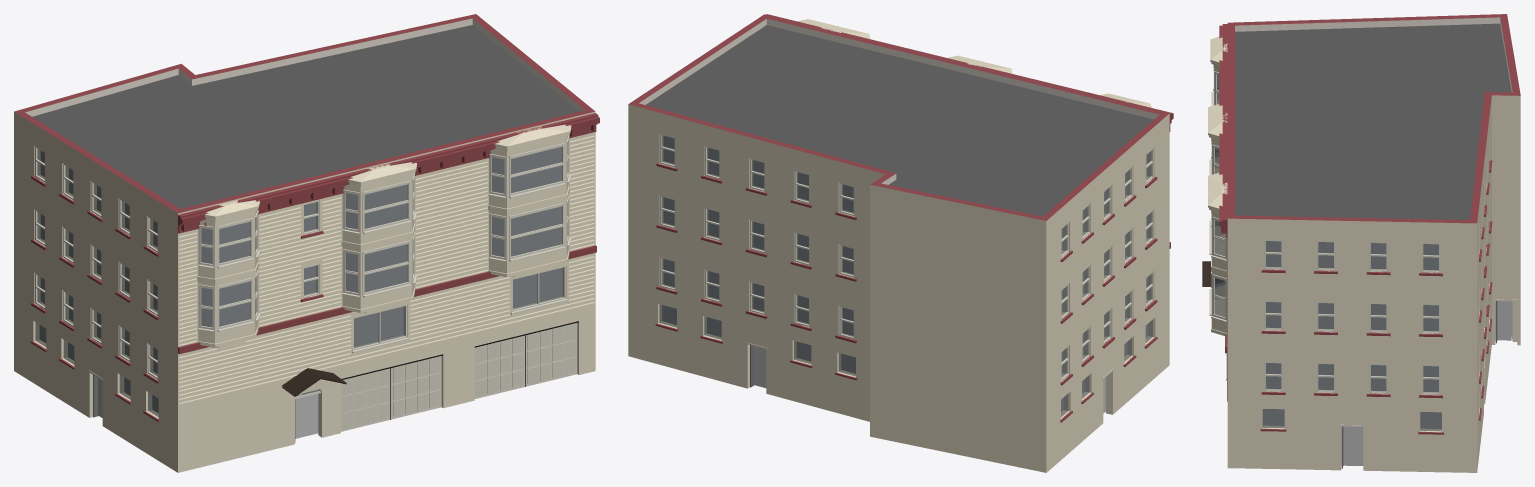
The model's file is exterior.glb.
The picture shows the model from 3 angles, left to right: view 1: azimuth 30°, elevation 25°; view 2: azimuth 150°, elevation 25°; view 3: azimuth 270°, elevation 25°; orthographic projection. The views are drawn at different scales.
Visible parts, largest first — view 1: shell, roof, bay-glazing-hyb, shadow-proxy, hyD-lap-2, bay-windows-hyb, storefront, glazing, trim, frames, front-dressing, hand-ornament; view 2: shell, roof, glazing, shadow-proxy, frames, trim, bay-windows-hyb; view 3: shell, roof, shadow-proxy, glazing, trim, frames, bay-windows-hyb, bay-glazing-hyb.
Boxes of the visible parts, x1,y1,x2,y2 form: shell: [14, 14, 595, 472]; roof: [32, 25, 578, 208]; bay-glazing-hyb: [198, 135, 571, 332]; shadow-proxy: [40, 147, 562, 438]; hyD-lap-2: [179, 132, 594, 403]; bay-windows-hyb: [197, 124, 571, 348]; storefront: [88, 321, 578, 442]; glazing: [35, 149, 563, 416]; trim: [30, 113, 599, 421]; frames: [35, 146, 565, 379]; front-dressing: [178, 245, 596, 354]; hand-ornament: [282, 368, 346, 396]; shell: [628, 14, 1169, 472]; roof: [646, 25, 1153, 216]; glazing: [659, 135, 1152, 416]; shadow-proxy: [662, 136, 1147, 413]; frames: [660, 133, 1153, 380]; trim: [655, 14, 1173, 422]; bay-windows-hyb: [798, 19, 1151, 107]; shell: [1227, 14, 1520, 472]; roof: [1235, 23, 1511, 219]; shadow-proxy: [1263, 241, 1511, 465]; glazing: [1262, 241, 1441, 431]; trim: [1219, 24, 1492, 434]; frames: [1264, 240, 1440, 394]; bay-windows-hyb: [1208, 37, 1227, 335]; bay-glazing-hyb: [1209, 65, 1226, 322].
Size of the model in its own units: 22.49 by 12.48 by 14.44.
